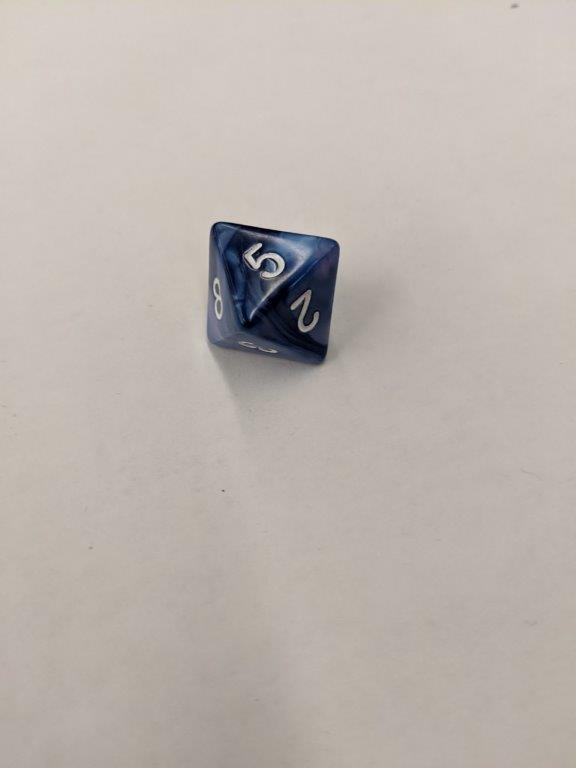d8-5: (202, 222, 342, 368)
